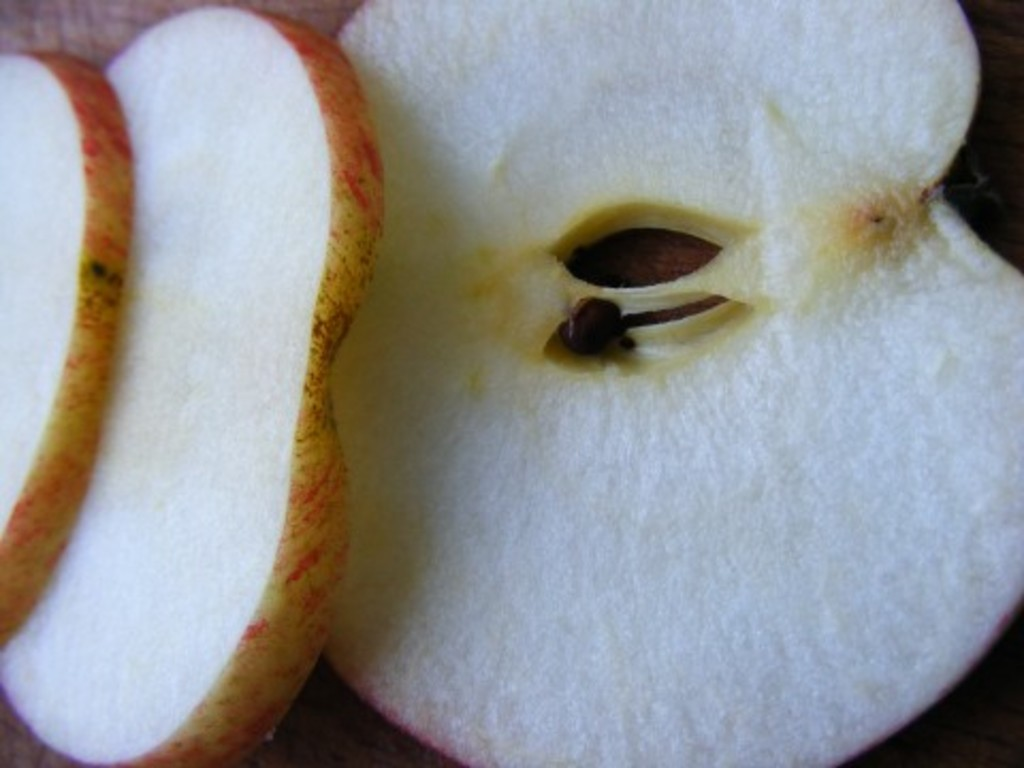Apple: (196, 51, 945, 768), (2, 0, 392, 765), (0, 49, 132, 639)
